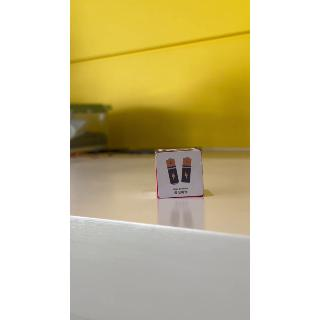Used_Battery: (157, 150, 207, 196)
